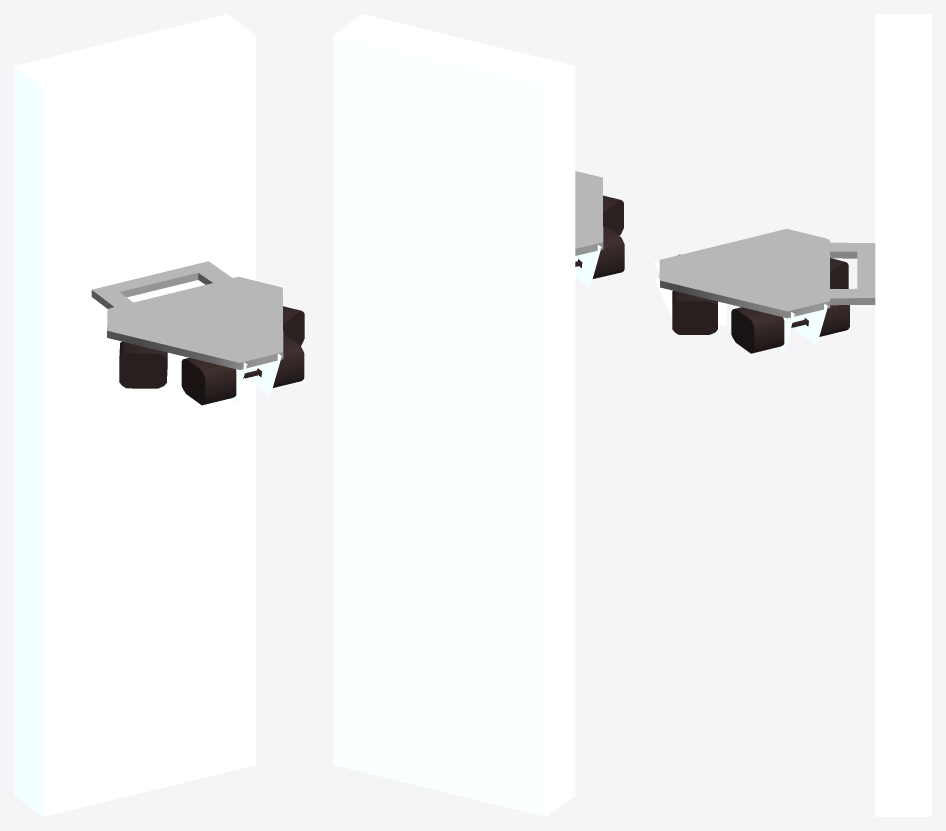
The model's file is basefull.dae.
3 renders of one model, left to right at view 1: azimuth 30°, elevation 25°; view 2: azimuth 150°, elevation 25°; view 3: azimuth 270°, elevation 25°, orthographic. The views are drawn at different scales.
Visible parts, largest first — view 1: Cube.2, Cube.1, Cube.12 (×4), Cube.10, Cube.6; view 2: Cube.2, Cube.1, Cube.12 (×2), Cube.6; view 3: Cube.2, Cube.1, Cube.12 (×4), Cube.4.
Part boxes in pixels (<box>): Cube.2: <box>14,14,256,816</box>; Cube.1: <box>91,261,283,369</box>; Cube.12 (×4): <box>119,306,304,405</box>; Cube.10: <box>245,354,282,395</box>; Cube.6: <box>100,329,176,378</box>; Cube.2: <box>333,14,575,816</box>; Cube.1: <box>575,171,603,255</box>; Cube.12 (×2): <box>575,195,624,278</box>; Cube.6: <box>575,245,601,286</box>; Cube.2: <box>875,14,931,816</box>; Cube.1: <box>659,229,875,318</box>; Cube.12 (×4): <box>672,258,849,353</box>; Cube.4: <box>792,304,828,344</box>.
Bounding box in the file's own units: 298 × 978 × 351.
